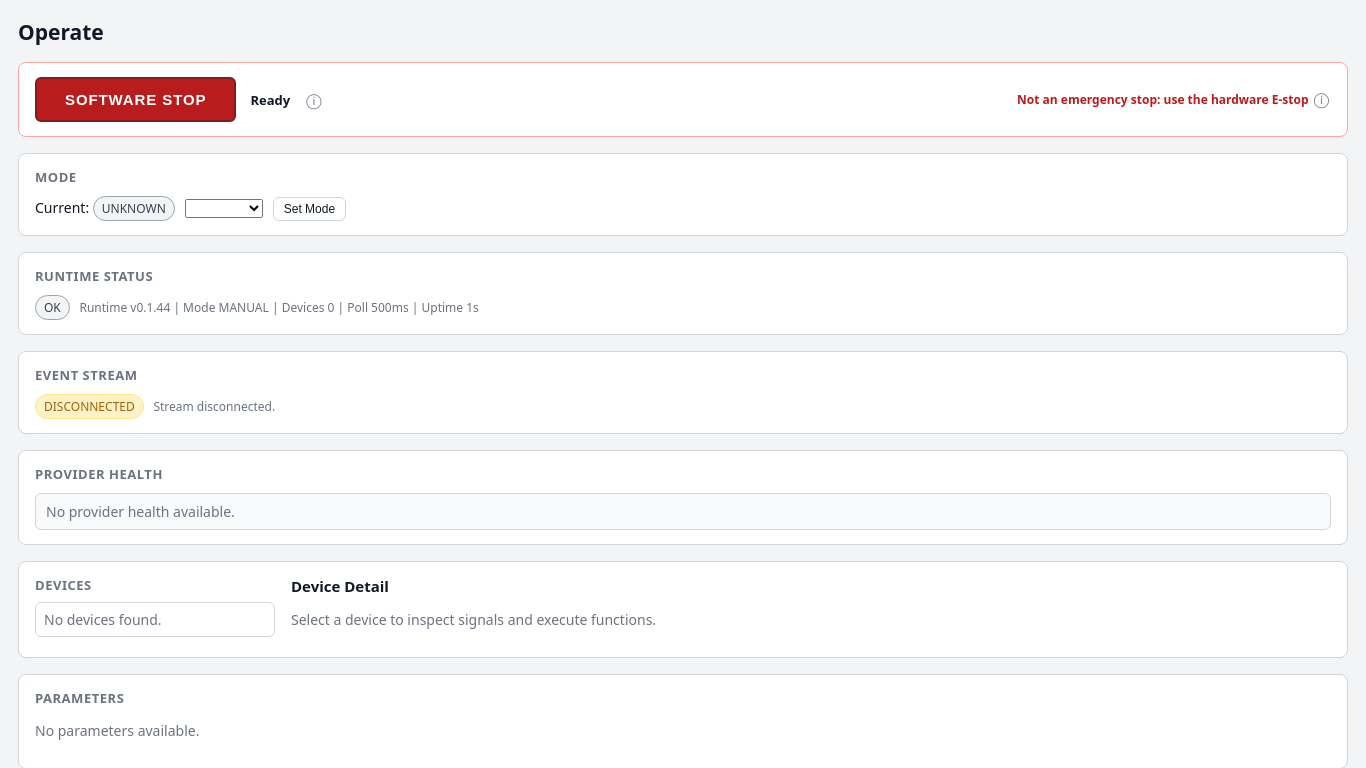
Operate.svelte — the safe-state note (#346) › names the runtime version in Runtime Status, and the rung and its file behind the ⓘ
Expected: the text "Runtime v0.1.44 | Mode MANUAL" is shown, [80,299,479,316]
Expected: the text with test id "estop-state" does not show "Loading", [250,90,290,108]
What coordinates should you click on to do the following:
click the button named "About "
I would click on:
 (314, 100)
Its box is [304,92,324,107].
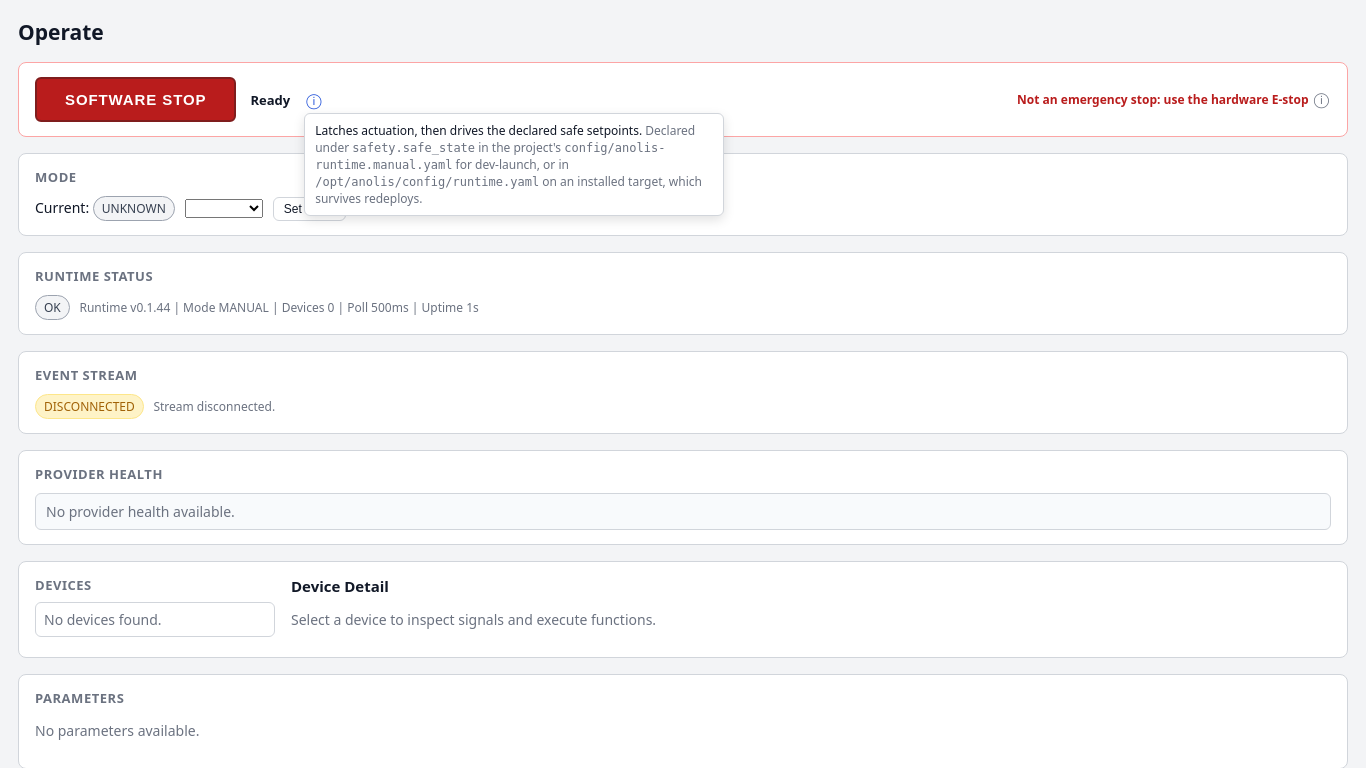
Now the text "Latches actuation, then drives the declared safe setpoints" is shown, box [315,122,642,139]
Now the element with test id "safe-state-fix" shows "safety.safe_state", box [352,141,475,155]
Now the element with test id "safe-state-fix" shows "the project's config/anolis-runtime.manual.yaml for dev-launch", box [315,122,702,207]
